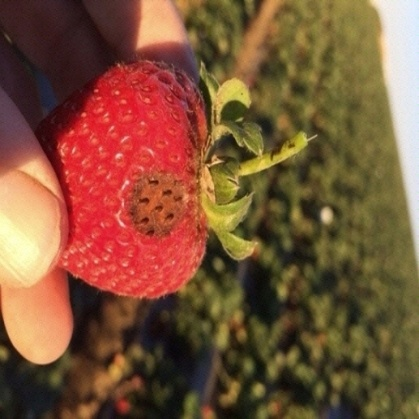Anthracnose_FR: (186, 171, 298, 238)
